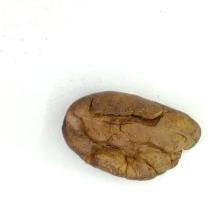NG: (74, 99, 172, 173)
